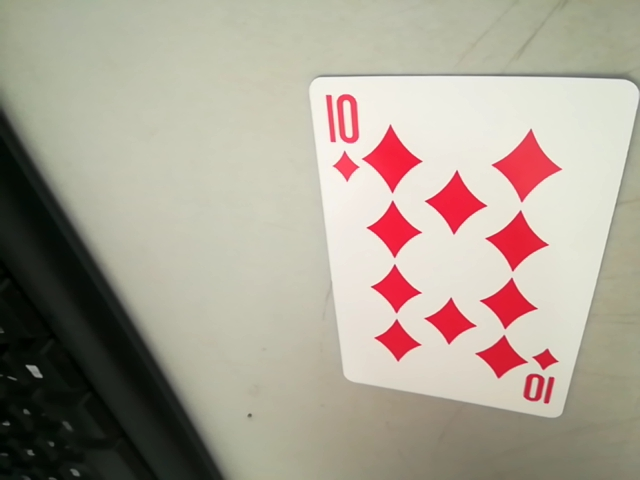fk 10: (317, 88, 372, 168), (512, 349, 562, 413)
